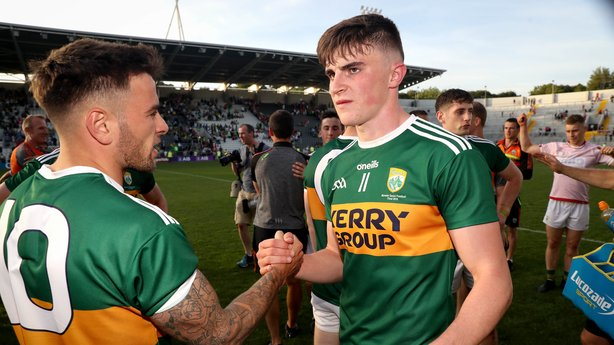player: (292, 4, 504, 336), (22, 23, 219, 333)
